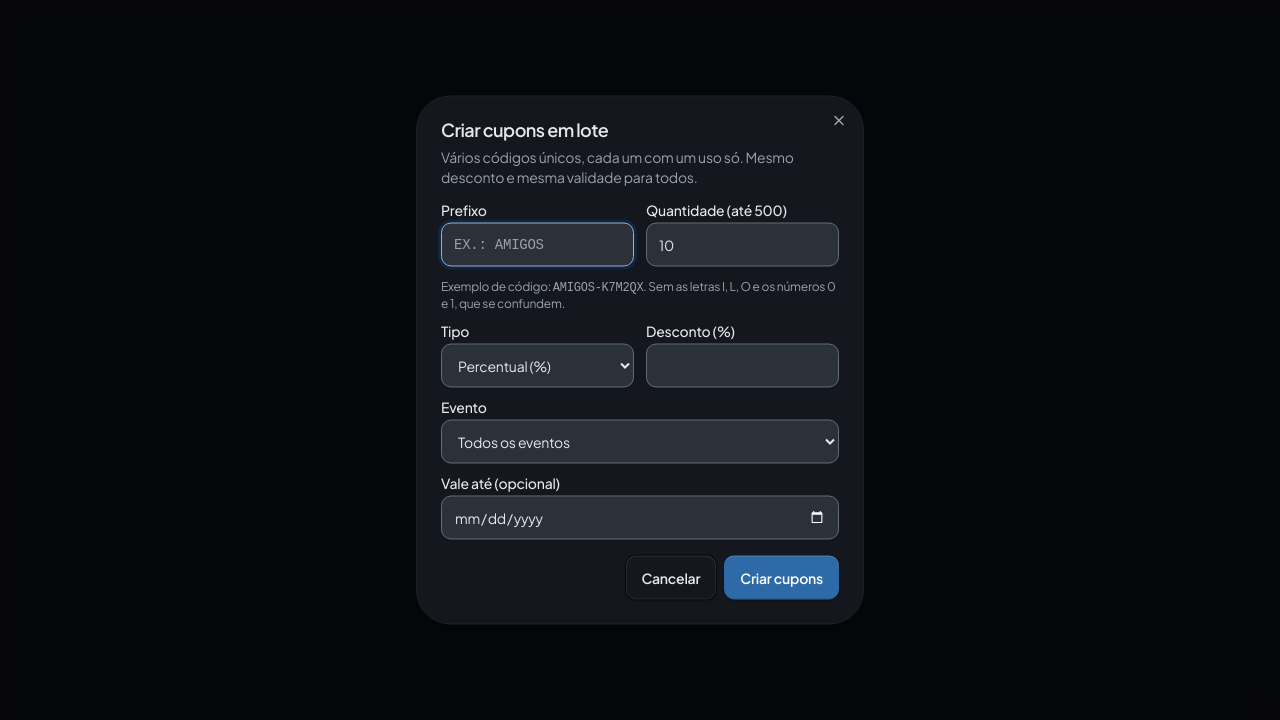
cupons em lote e CSV (tela) › lote: percentual acima de 100 não grava
The image size is (1280, 720).
Type "A" into the field labelled "Prefixo".
click(538, 244); type("A")  # box [441,222,634,266]
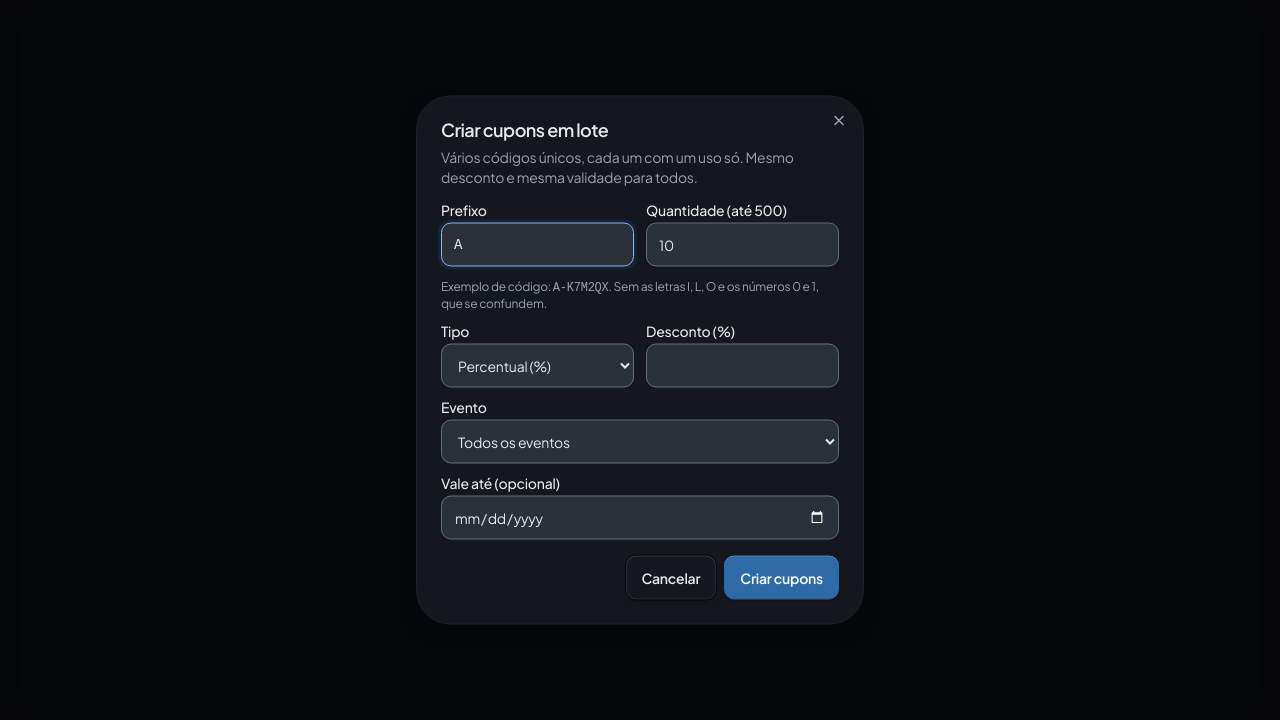
Type "101" into the field labelled "Desconto (%)".
click(742, 366); type("101")  # box [646,344,839,388]
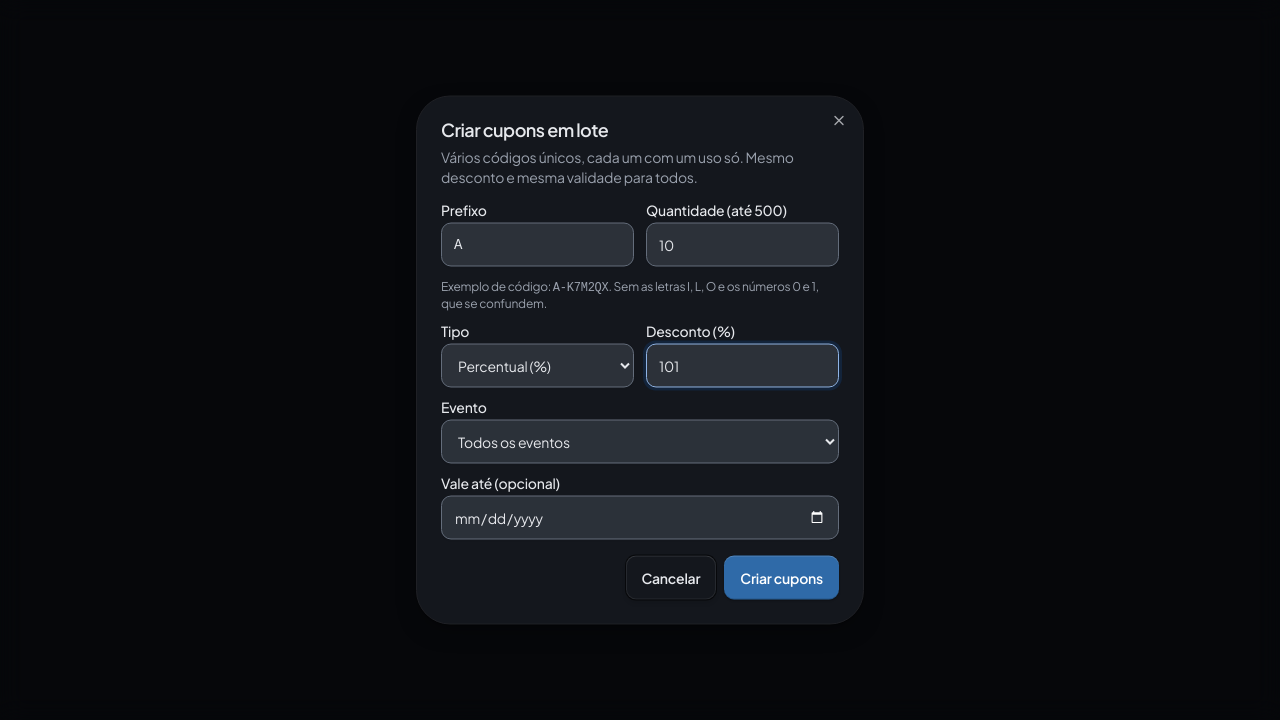
Click the button "Criar cupons".
click(782, 578)  # box [724,556,839,600]
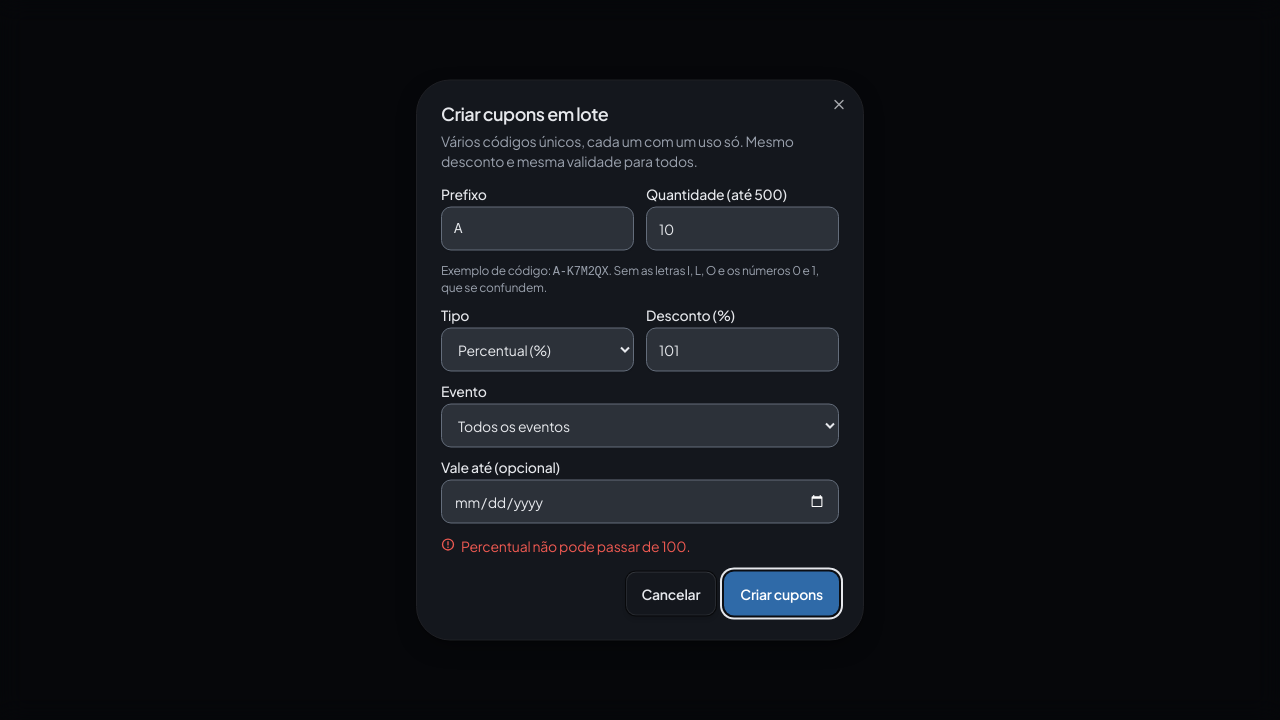
Expected: the message shows "100", [461,536,690,554]
